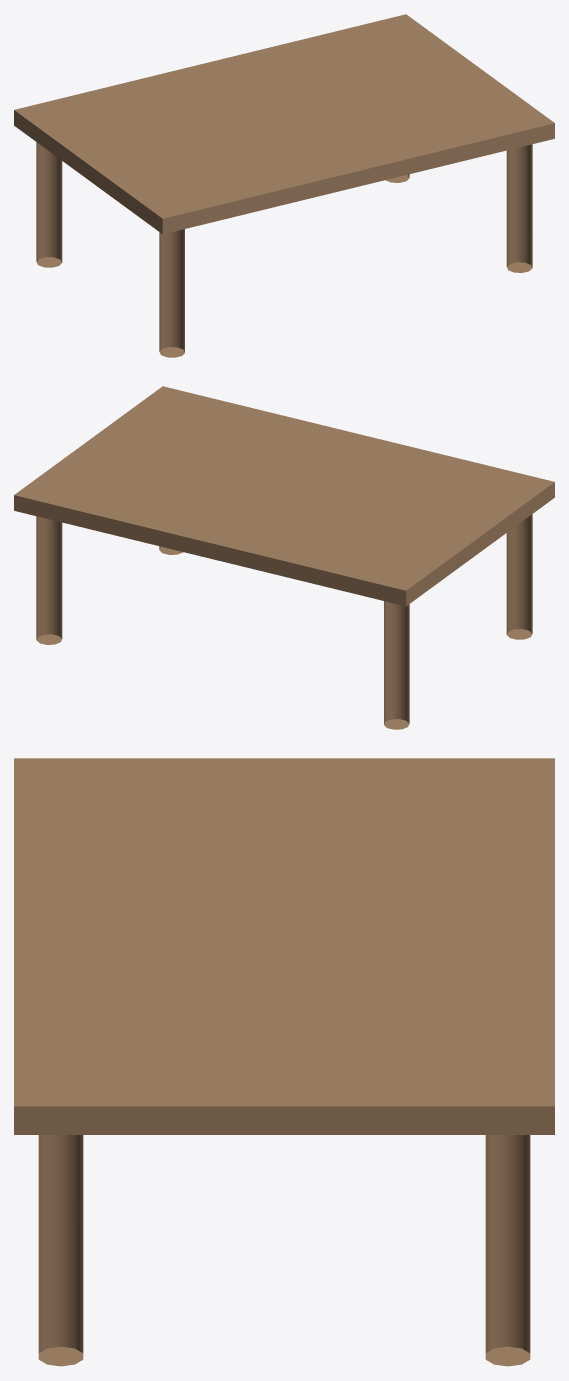
The model's file is coffee_table_04.glb.
The picture shows the model from 3 angles, top to bottom: view 1: azimuth 30°, elevation 25°; view 2: azimuth 150°, elevation 25°; view 3: azimuth 270°, elevation 25°; orthographic projection. The views are drawn at different scales.
Size of the model in its own units: 1.05 by 0.38 by 0.69.
